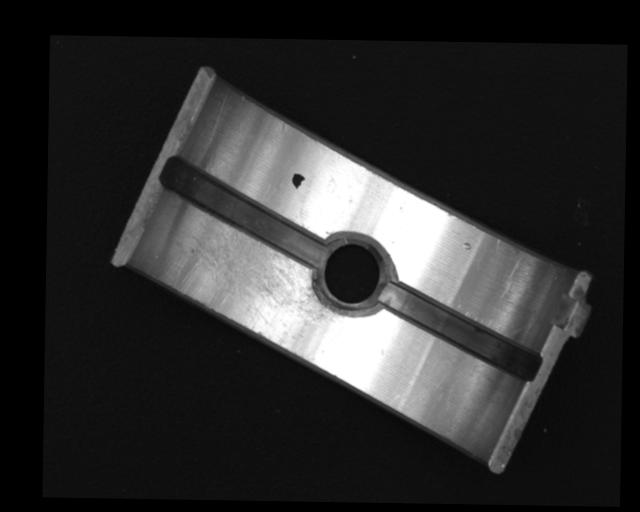blot: (291, 171, 306, 191)
bruise: (461, 241, 472, 252)
gap: (161, 158, 325, 268), (379, 286, 539, 381)
hole: (315, 236, 389, 316)
scratch: (174, 218, 347, 359)
